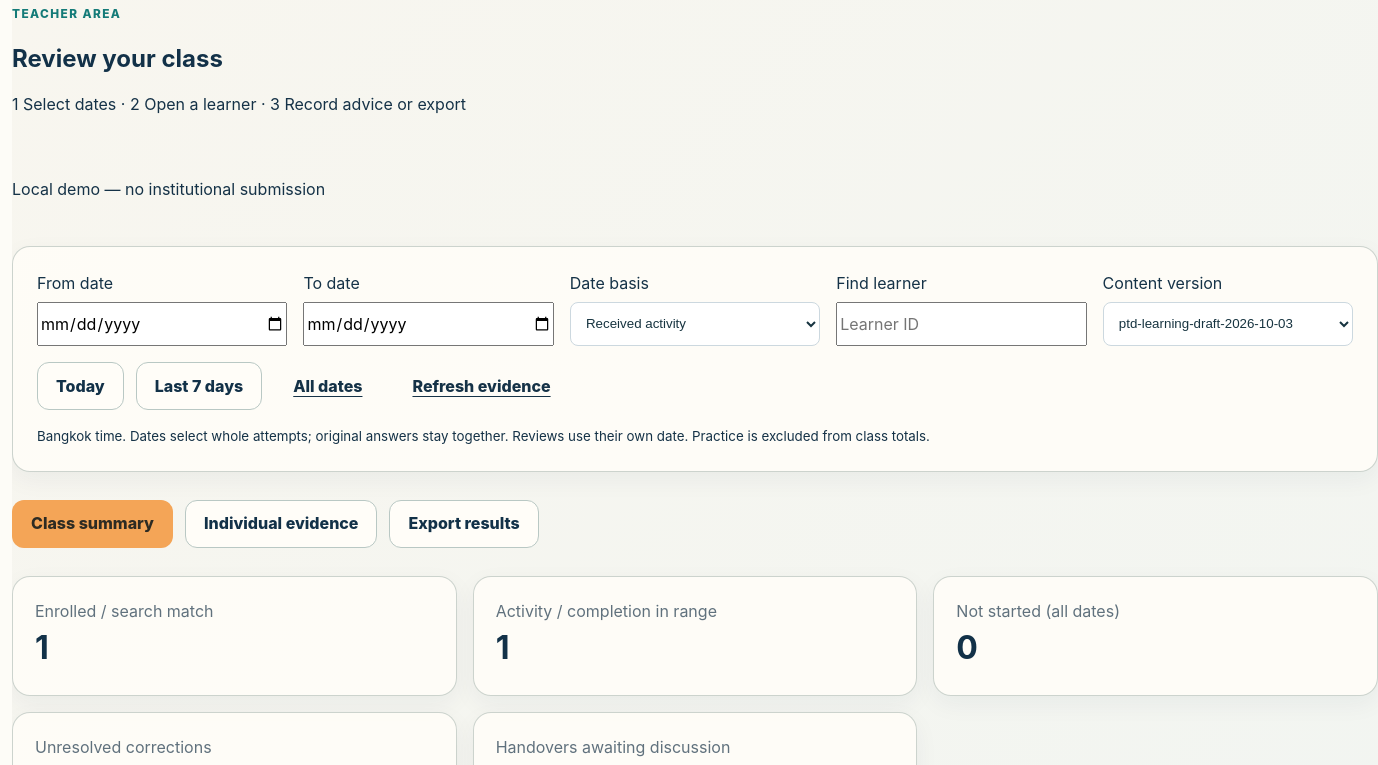
Test: teacher evidence and observation › searches learners and distinguishes no matching dates from incorrect answers
In the search field labelled "Find learner": (961, 324) [836,302,1087,346], type "does-not-exist"
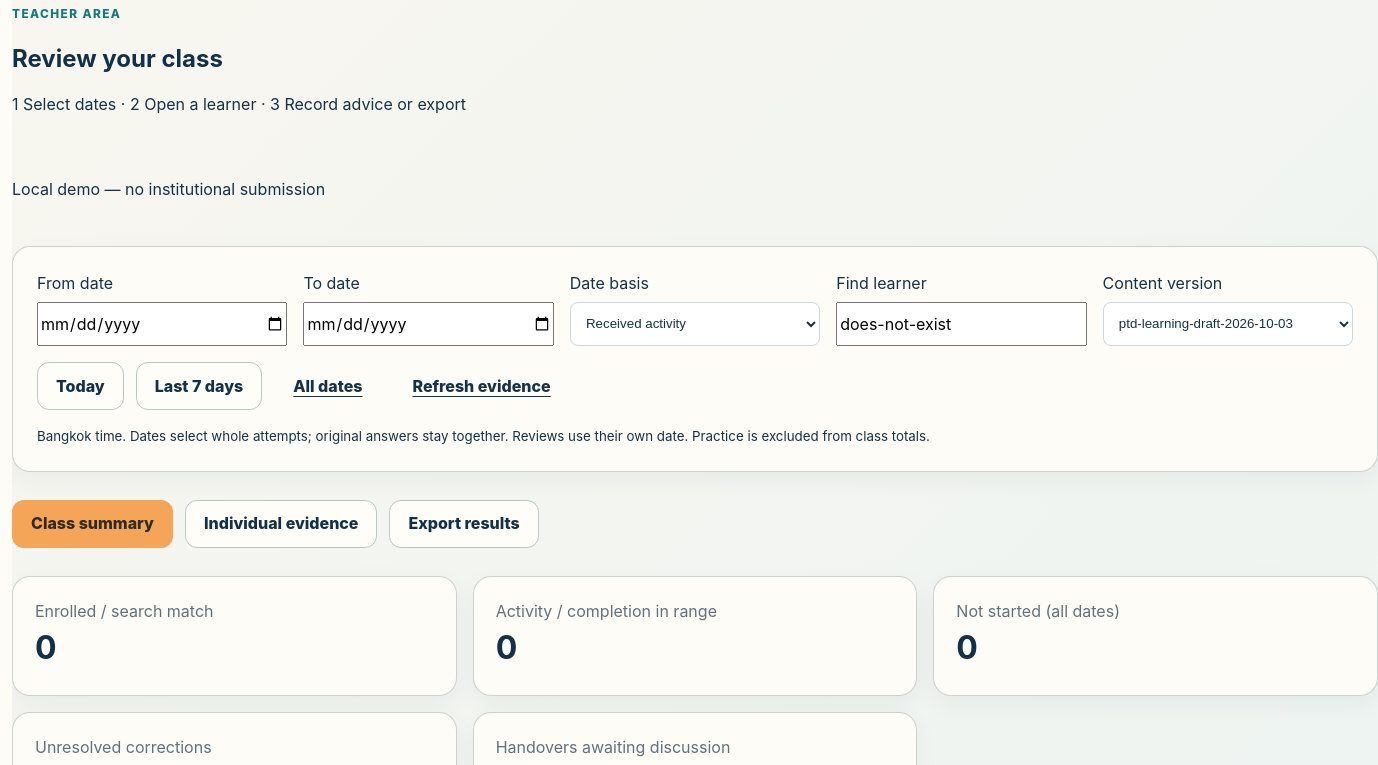
expect the button "Open learner" is not shown: met
Click the button "All dates": (328, 386) [274,362,381,410]
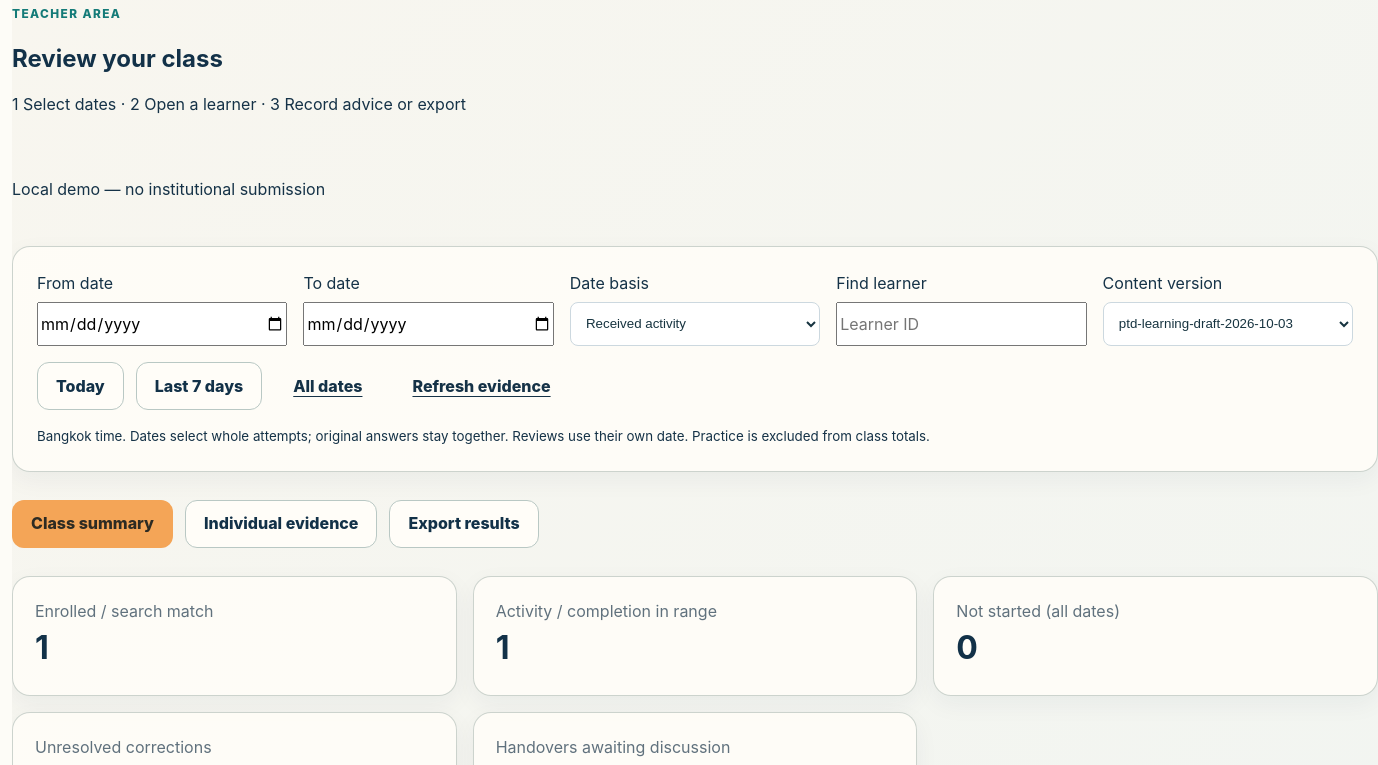
Click the button "Today": (80, 386) [37,362,124,410]
(page scrolled)
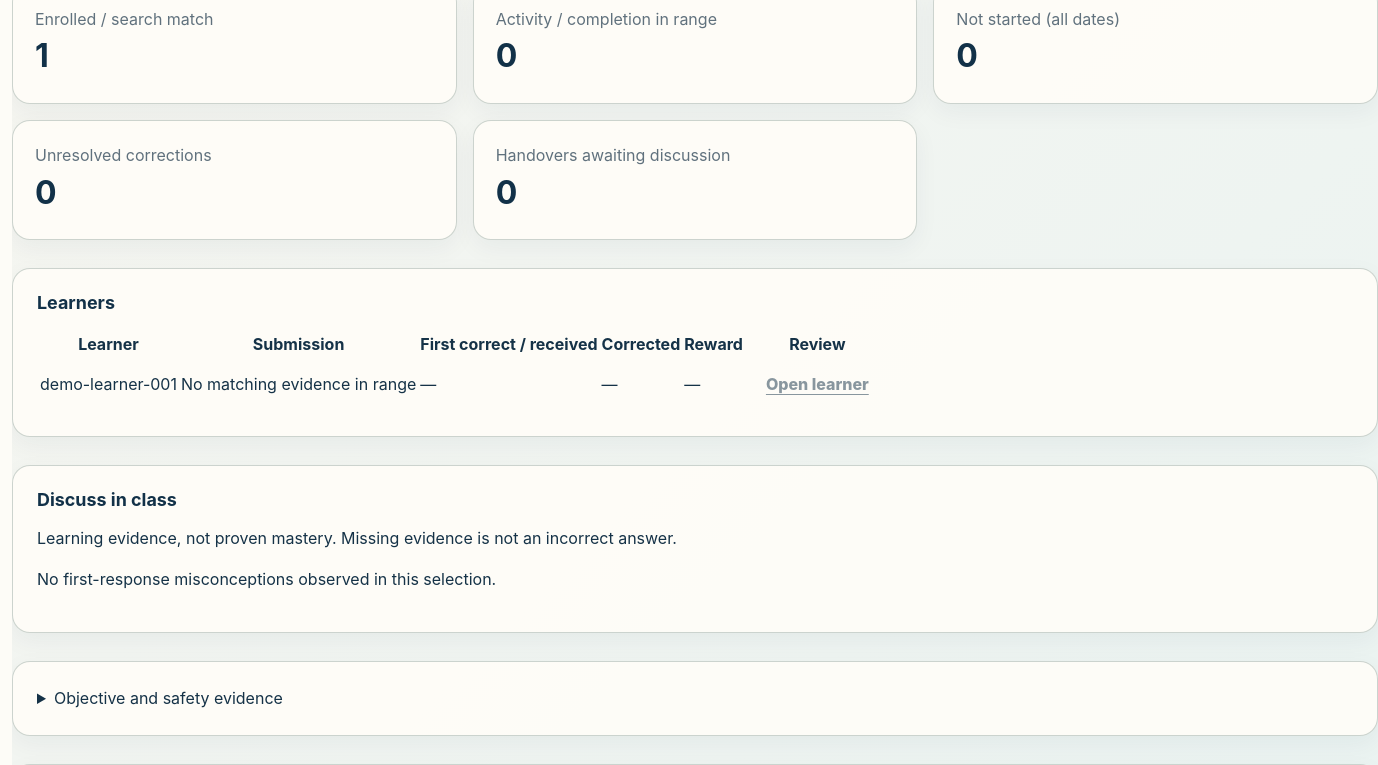
expect the text "No matching evidence in range" is shown: met, box [180,360,417,410]
